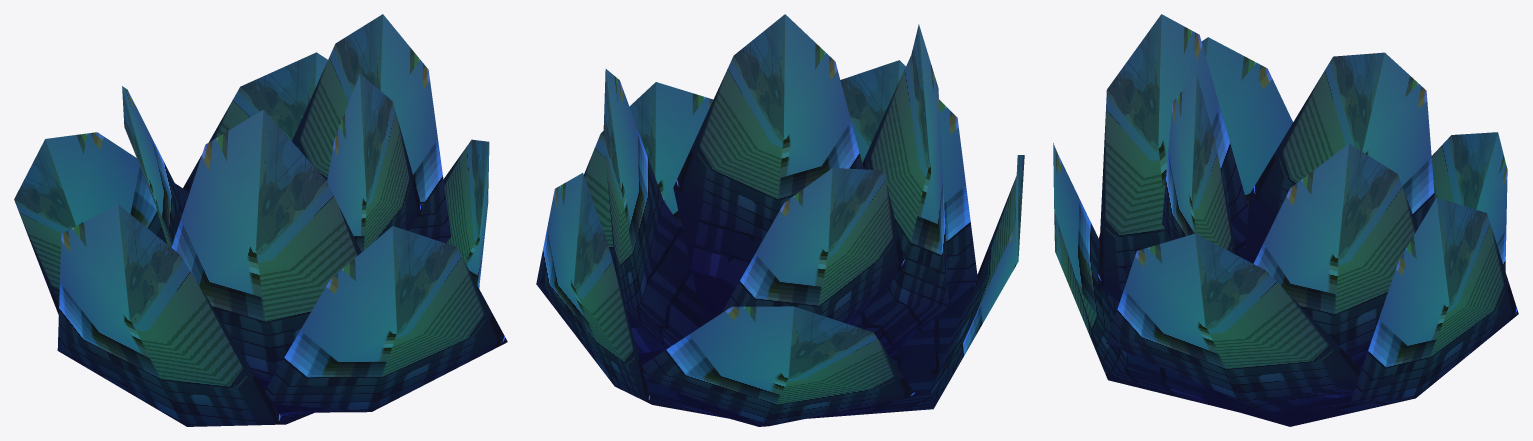
File: trp_flower2.glb
3 views of the same model, side by side, from view 1: azimuth 30°, elevation 25°; view 2: azimuth 150°, elevation 25°; view 3: azimuth 270°, elevation 25° (orthographic). The views are drawn at different scales.
Visible parts, largest first — view 1: SM_Env_Flower_02_LOD0; view 2: SM_Env_Flower_02_LOD0; view 3: SM_Env_Flower_02_LOD0.
Boxes of the visible parts, bbox=[...] form: SM_Env_Flower_02_LOD0: bbox=[14, 14, 507, 426]; SM_Env_Flower_02_LOD0: bbox=[536, 14, 1024, 426]; SM_Env_Flower_02_LOD0: bbox=[1053, 14, 1518, 426].
Size of what is drawn, in the model's own units: 0.3312 by 0.2746 by 0.3147.
Materials: 1 (1 with a texture image).
